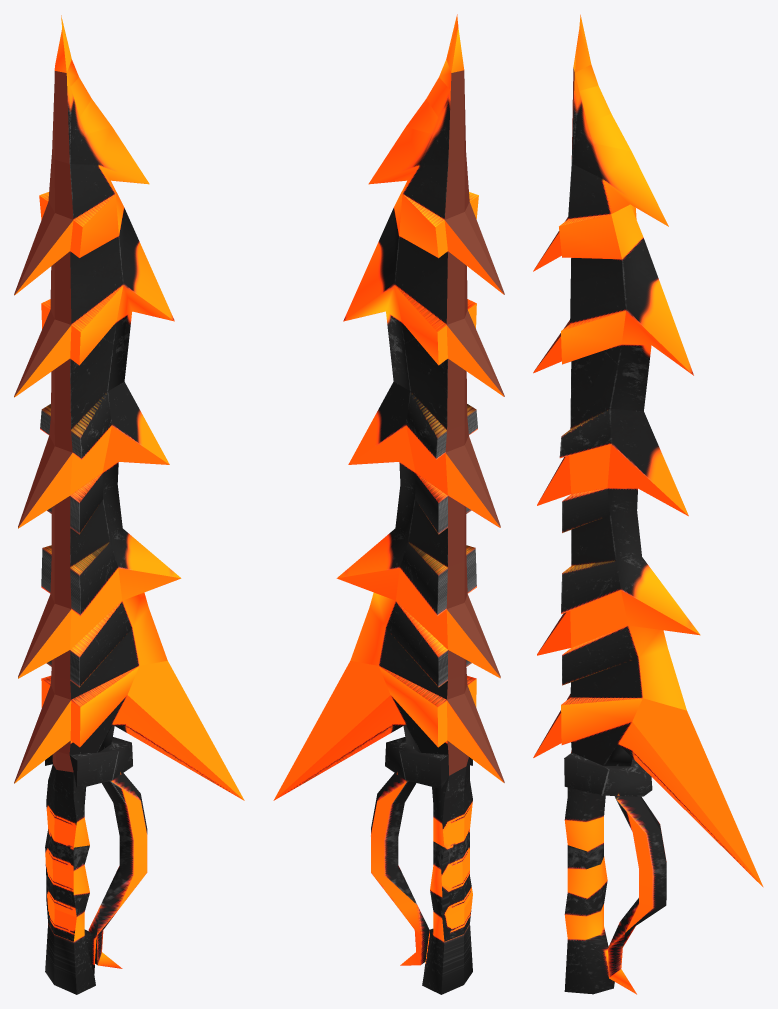
Rendered from DualBigSword.fbx.
3 renders of one model, left to right at view 1: azimuth 30°, elevation 25°; view 2: azimuth 150°, elevation 25°; view 3: azimuth 330°, elevation 25°, orthographic.
Visible parts, largest first — view 1: sword.008; view 2: sword.008; view 3: sword.008.
Boxes of the visible parts, bbox=[...] form: sword.008: bbox=[14, 15, 244, 994]; sword.008: bbox=[273, 14, 504, 994]; sword.008: bbox=[533, 14, 763, 994].
Bounding box in the file's own units: 60.77 × 244 × 19.82.
